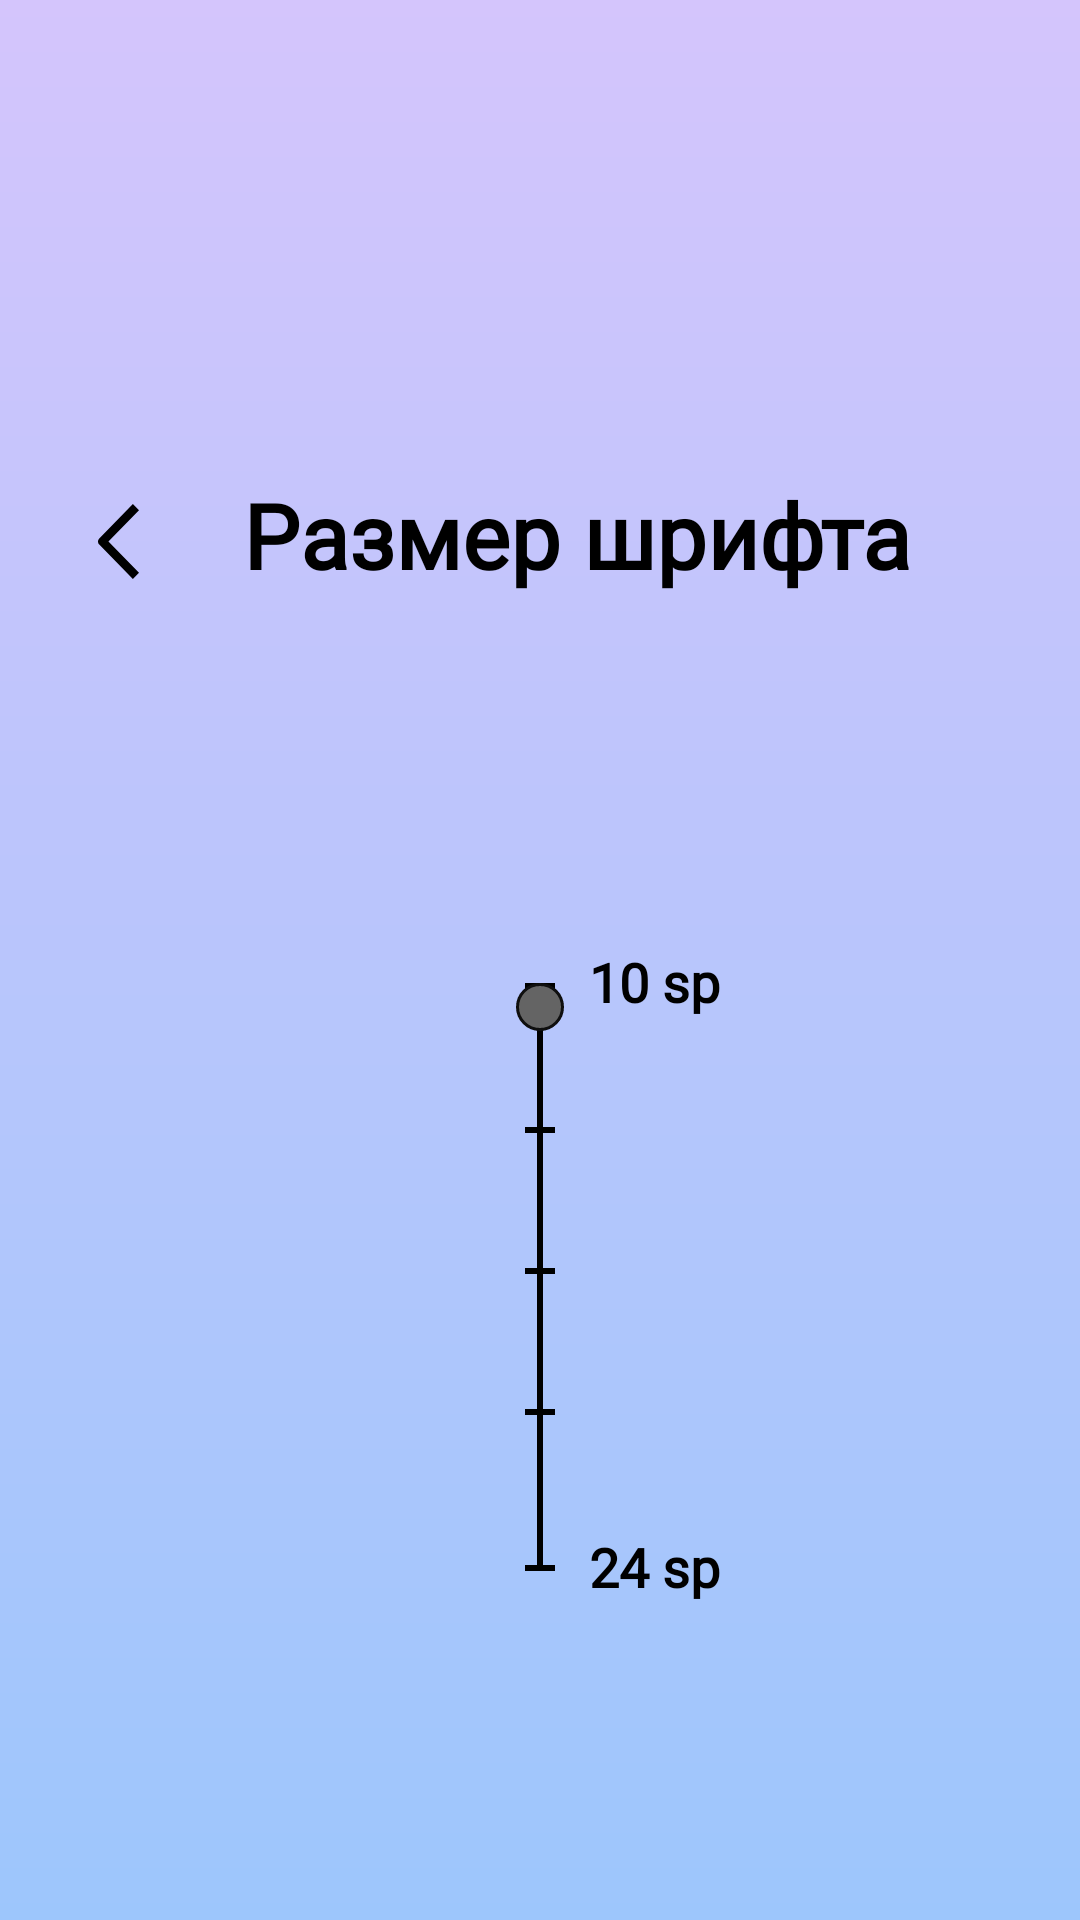

Screen size 1080x1920. Icon name, then its center in pixels as (x=x, y=y):
Back arrow: (x=118, y=541)
